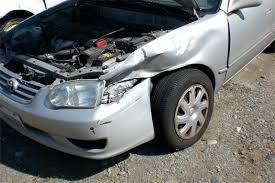Headlight-Damage: (39, 69, 130, 116)
fender-dent: (136, 30, 222, 74)
front-bumper-dent: (45, 115, 134, 156)
